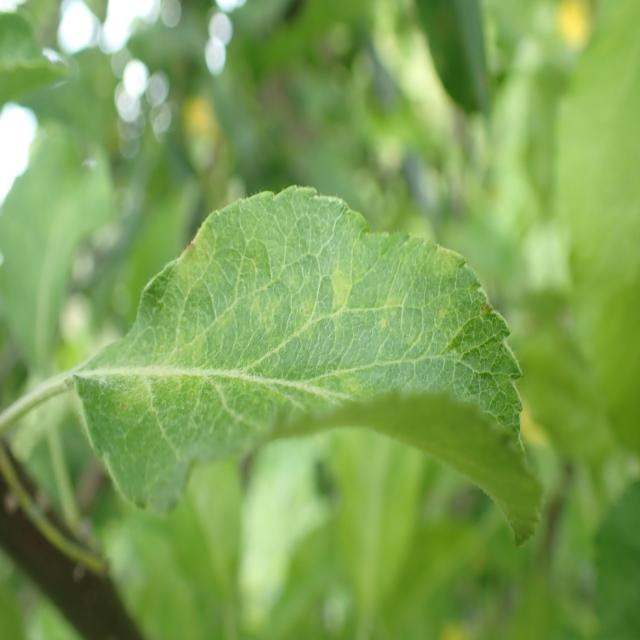scab: (117, 175, 517, 489)
